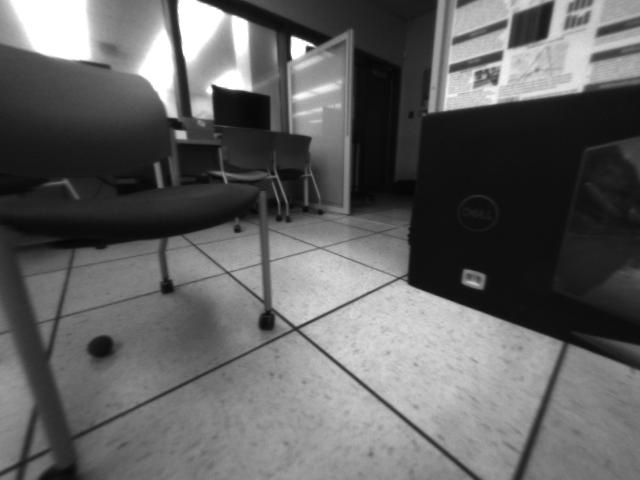dogtoy: (83, 326, 121, 364)
